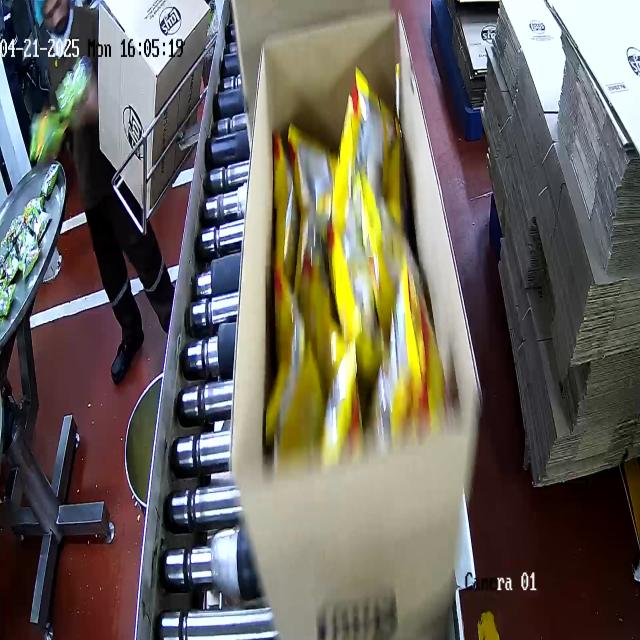SALTED: (267, 62, 442, 442)
